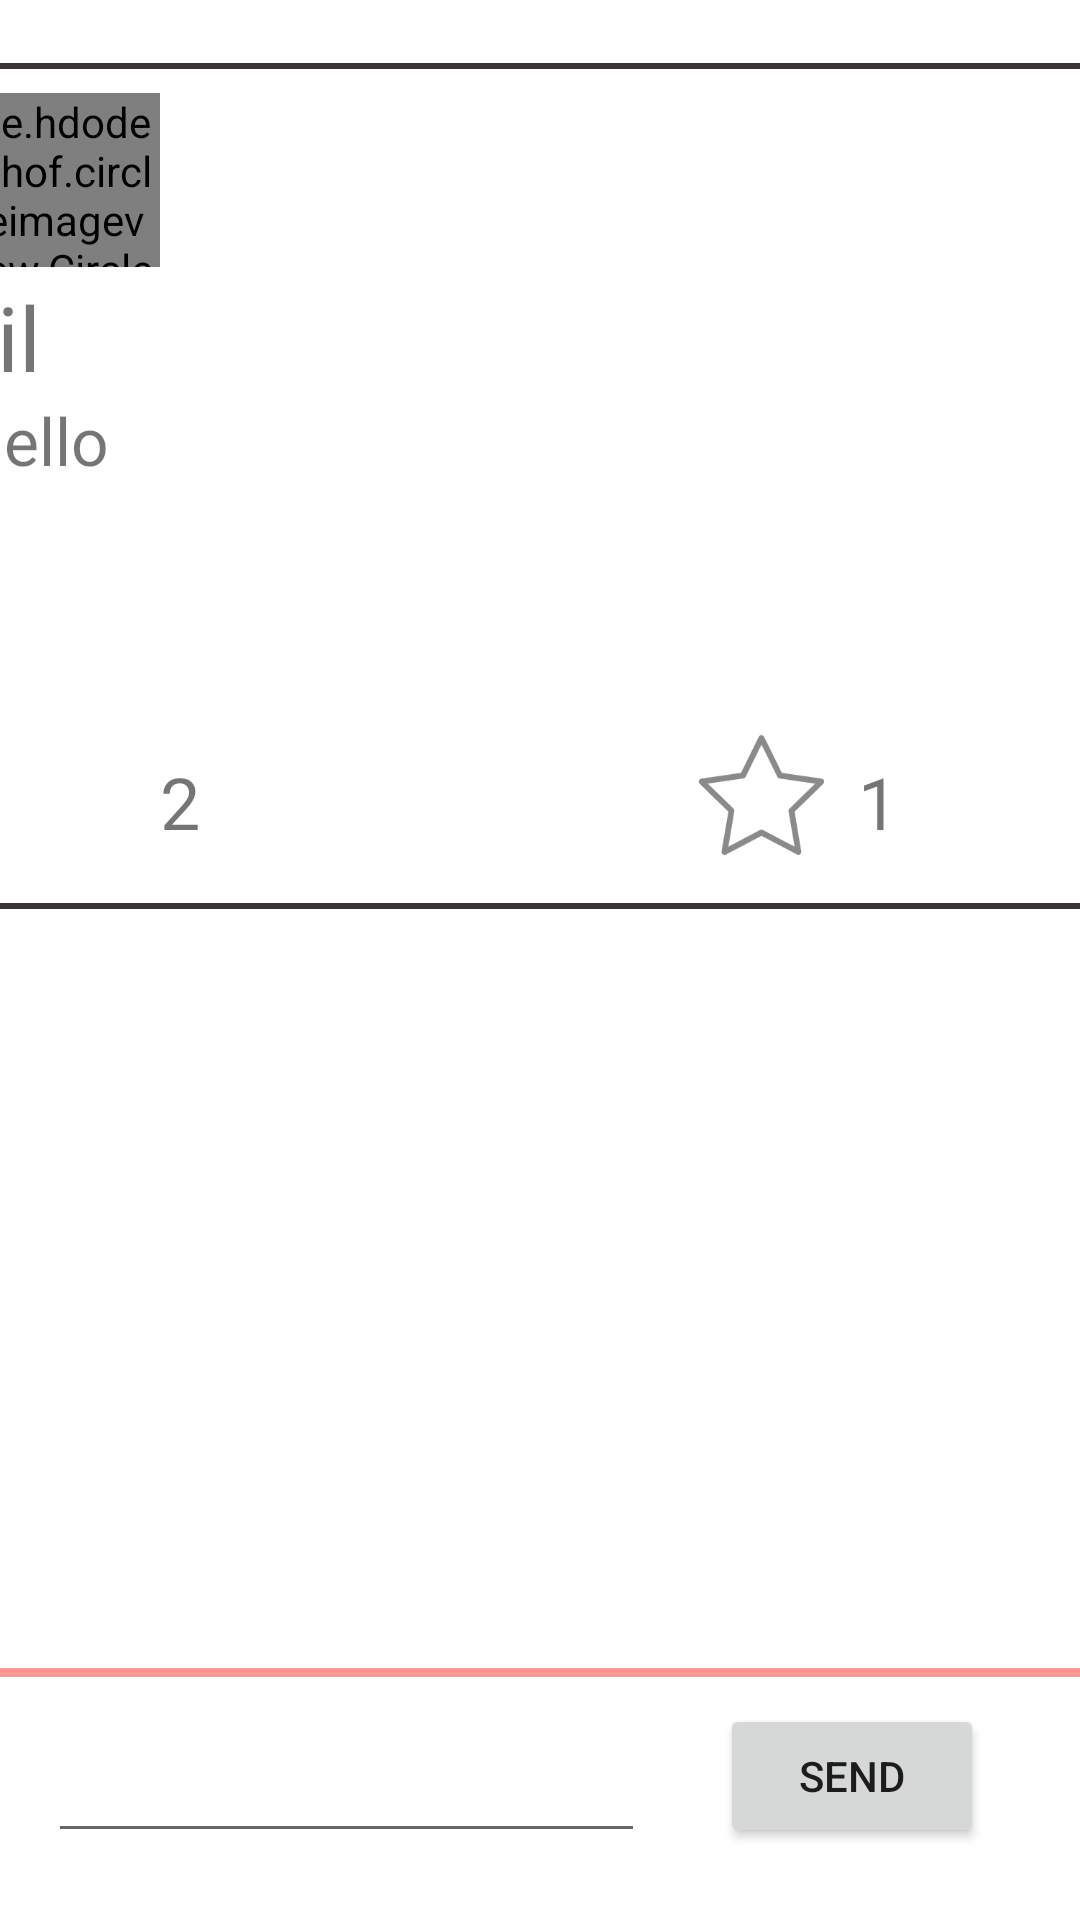

Icon click points for this 1080x1920 phone screenshot, format point (x, y):
mark: point (761, 795)
